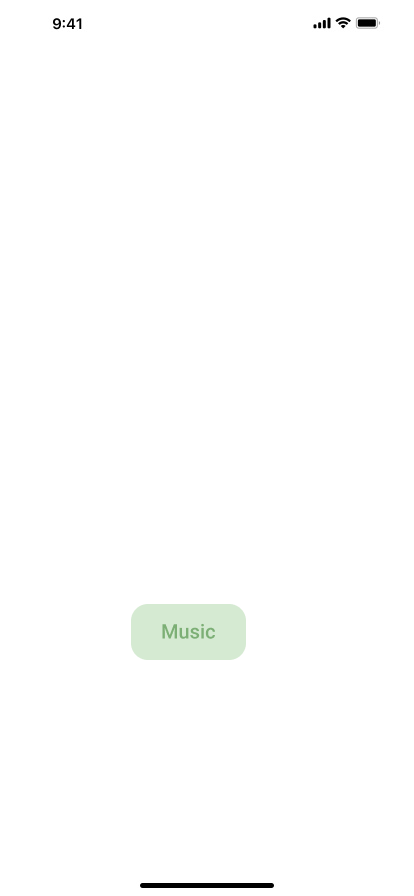Buttons: (131, 604, 254, 660)
Home Indicator: (0, 862, 414, 896)
Status Bar: (0, 0, 414, 44)
